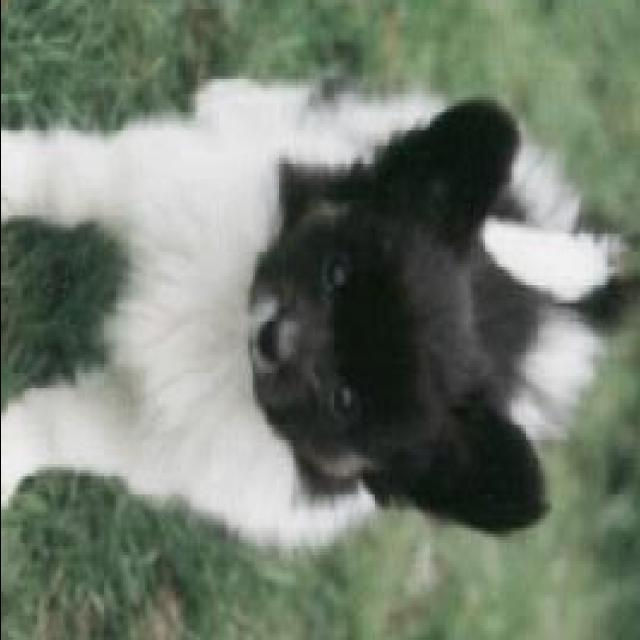papillon: (2, 64, 640, 574)
